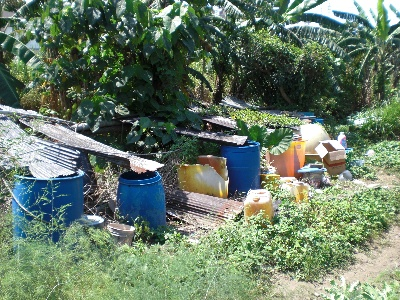bottle: (338, 132, 348, 149)
box: (315, 140, 347, 176)
bucket: (11, 170, 85, 240), (118, 171, 166, 232), (219, 140, 261, 193), (244, 189, 274, 221), (106, 223, 136, 246)
